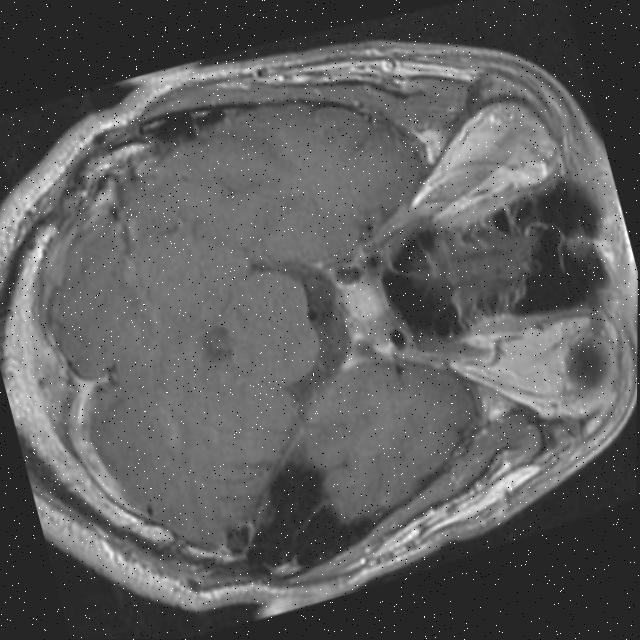Pituitary: (336, 266, 406, 343)
